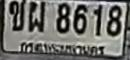1: (93, 4, 102, 35)
6: (73, 3, 87, 33)
8: (106, 4, 121, 35), (56, 2, 69, 32)
A10: (8, 0, 25, 30)
A28: (27, 0, 45, 31)
BKK: (13, 39, 107, 59)
